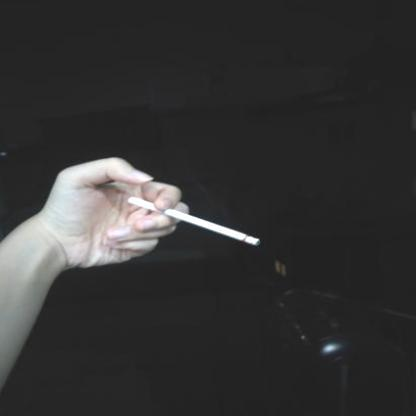cigarette: (129, 197, 265, 250)
